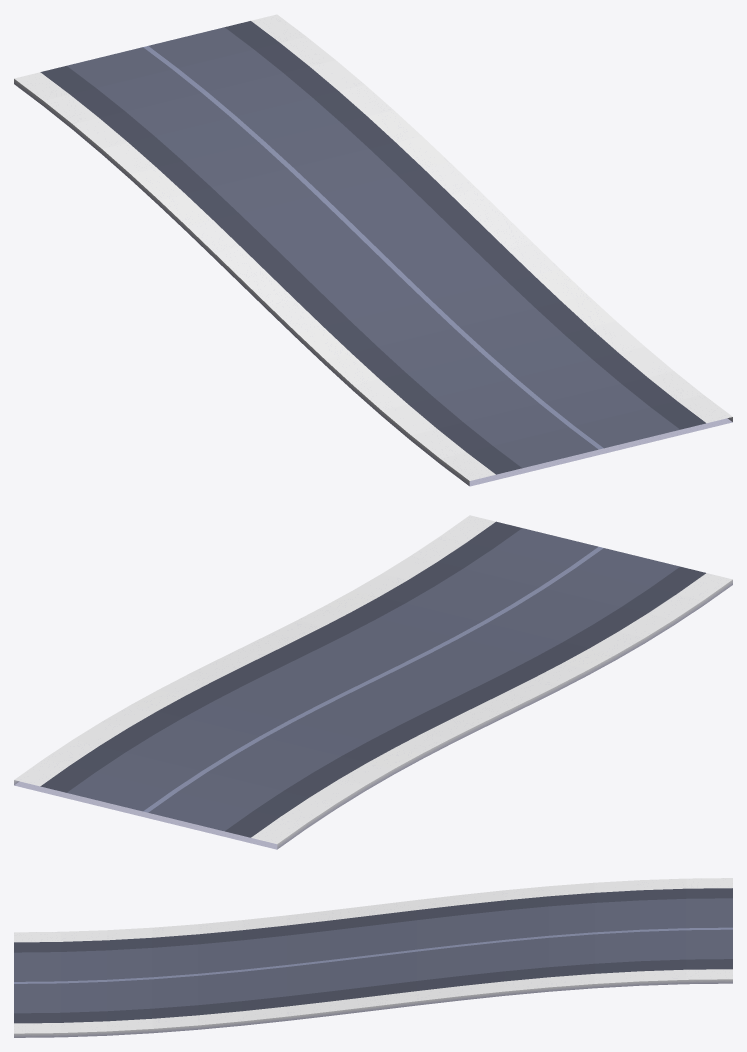
The model's file is road-Straight-Flat-Flat-Up1-Center-Size3.glb.
3 views of the same model, one above another, from view 1: azimuth 30°, elevation 25°; view 2: azimuth 150°, elevation 25°; view 3: azimuth 270°, elevation 25° (orthographic). The views are drawn at different scales.
Parts seen in each view (by area): view 1: road-Straight-Flat-Flat-Up1-Center-Size3; view 2: road-Straight-Flat-Flat-Up1-Center-Size3; view 3: road-Straight-Flat-Flat-Up1-Center-Size3.
Part boxes in pixels (x1,y1,x2,y2): road-Straight-Flat-Flat-Up1-Center-Size3: (14,14,732,486); road-Straight-Flat-Flat-Up1-Center-Size3: (14,515,732,849); road-Straight-Flat-Flat-Up1-Center-Size3: (14,878,732,1037).
Size of the model in its own units: 1 by 0.27 by 3.
Materials: 1 (1 with a texture image).
